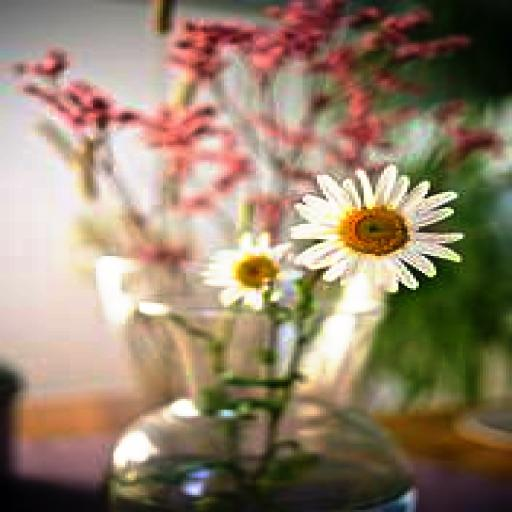daisy: (300, 175, 448, 294), (212, 239, 294, 307)
